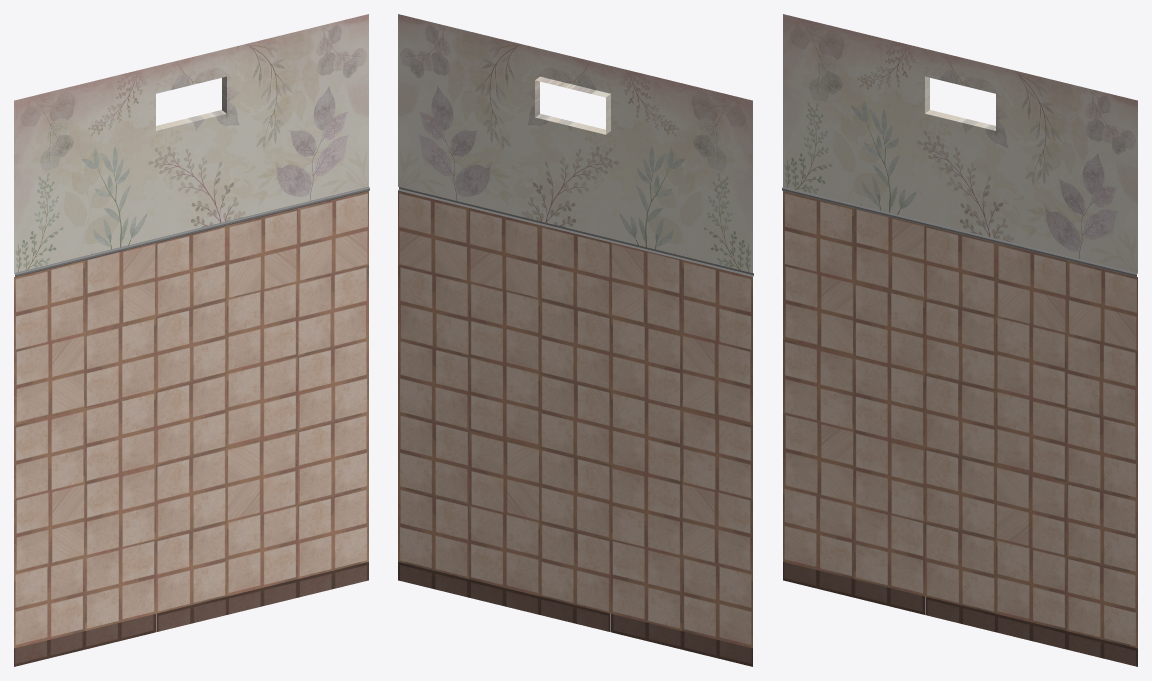
File: MT_BR_Middle_Wall_Window.fbx
3 renders of one model, left to right at view 1: azimuth 30°, elevation 25°; view 2: azimuth 150°, elevation 25°; view 3: azimuth 330°, elevation 25°, orthographic.
Visible parts, largest first — view 1: Middle_Wall.001; view 2: Middle_Wall.001; view 3: Middle_Wall.001.
Part boxes in pixels (x1=…): Middle_Wall.001: x1=14, y1=14, x2=369, y2=666; Middle_Wall.001: x1=398, y1=14, x2=753, y2=666; Middle_Wall.001: x1=782, y1=14, x2=1137, y2=666.
Size of the model in its own units: 200 by 305 by 6.
